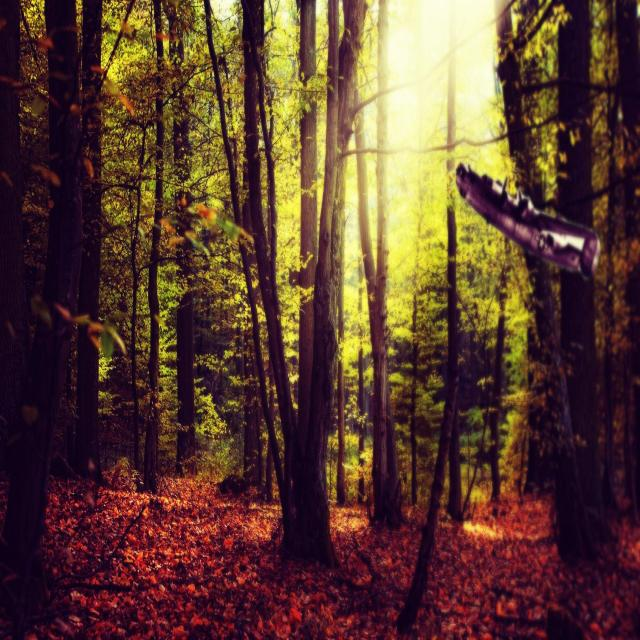airplane: (455, 161, 601, 280)
